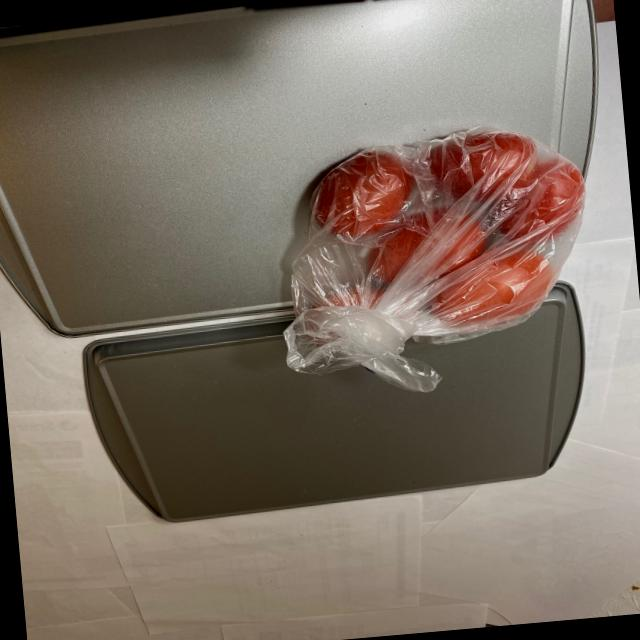tomato: (276, 122, 602, 356)
